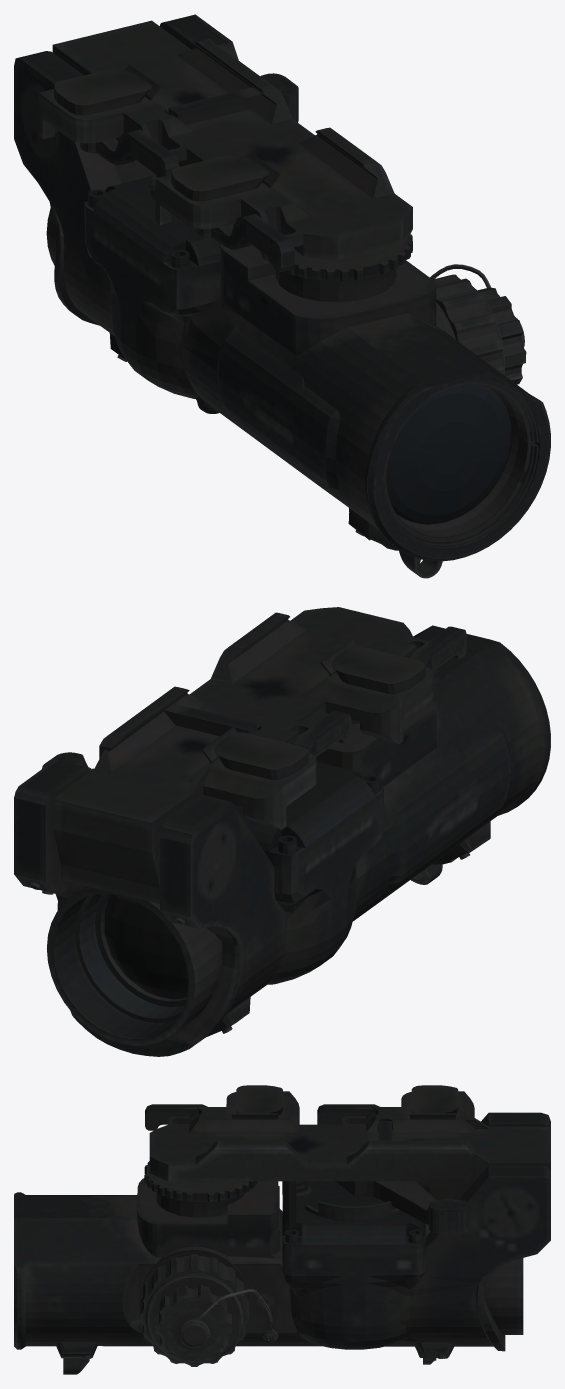
3 views of the same model, one above another, from view 1: azimuth 30°, elevation 25°; view 2: azimuth 150°, elevation 25°; view 3: azimuth 270°, elevation 25° (orthographic). The views are drawn at different scales.
Visible parts, largest first — view 1: TW_57ac965c24597706be5f975c_PZ_Import; view 2: TW_57ac965c24597706be5f975c_PZ_Import; view 3: TW_57ac965c24597706be5f975c_PZ_Import.
Part boxes in pixels (x1=…): TW_57ac965c24597706be5f975c_PZ_Import: x1=14, y1=14, x2=550, y2=578; TW_57ac965c24597706be5f975c_PZ_Import: x1=14, y1=607, x2=550, y2=1056; TW_57ac965c24597706be5f975c_PZ_Import: x1=14, y1=1085, x2=550, y2=1374.
Bounding box in the file's own units: 0.0417 × 0.0874 × 0.0443.
1 material, 1 textured.
